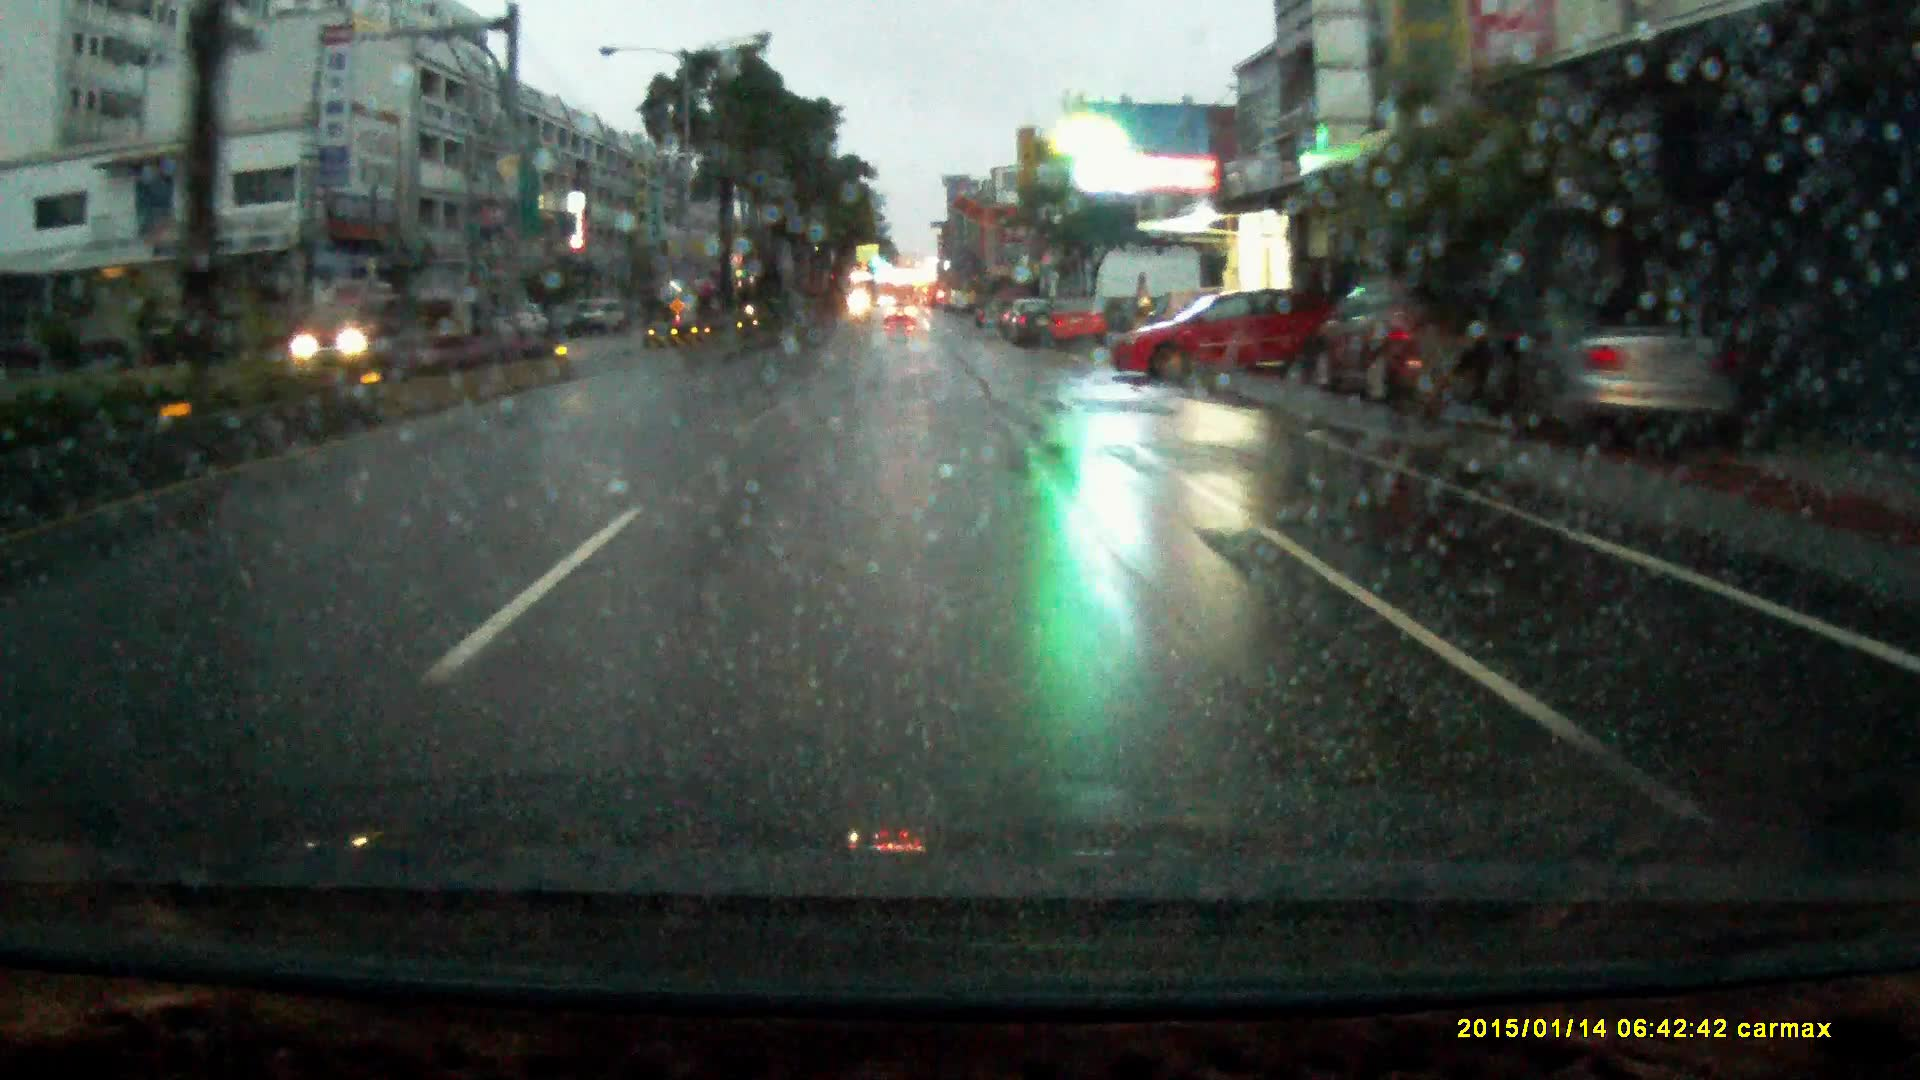vehicle: (1514, 294, 1763, 464), (1311, 276, 1528, 421), (1108, 290, 1338, 386), (278, 299, 409, 367), (1033, 301, 1108, 353), (1001, 301, 1058, 349), (578, 301, 626, 338), (886, 305, 916, 334)
